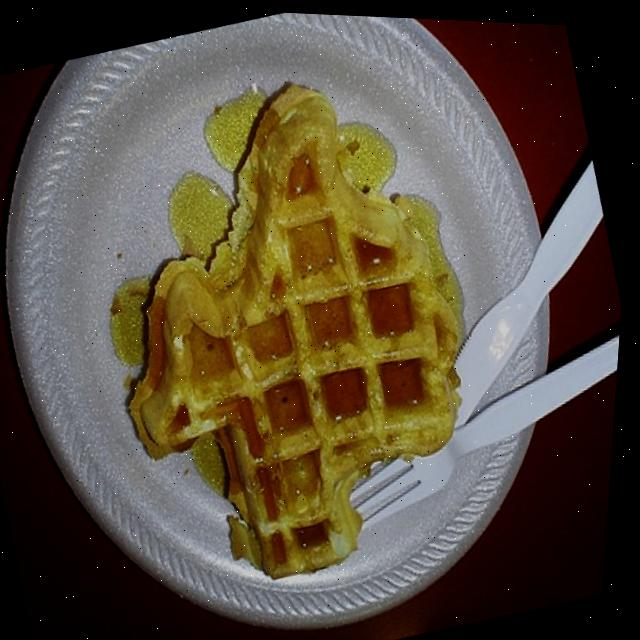炸货点心: (9, 11, 605, 640)
蛋糕甜品: (9, 11, 605, 640)
